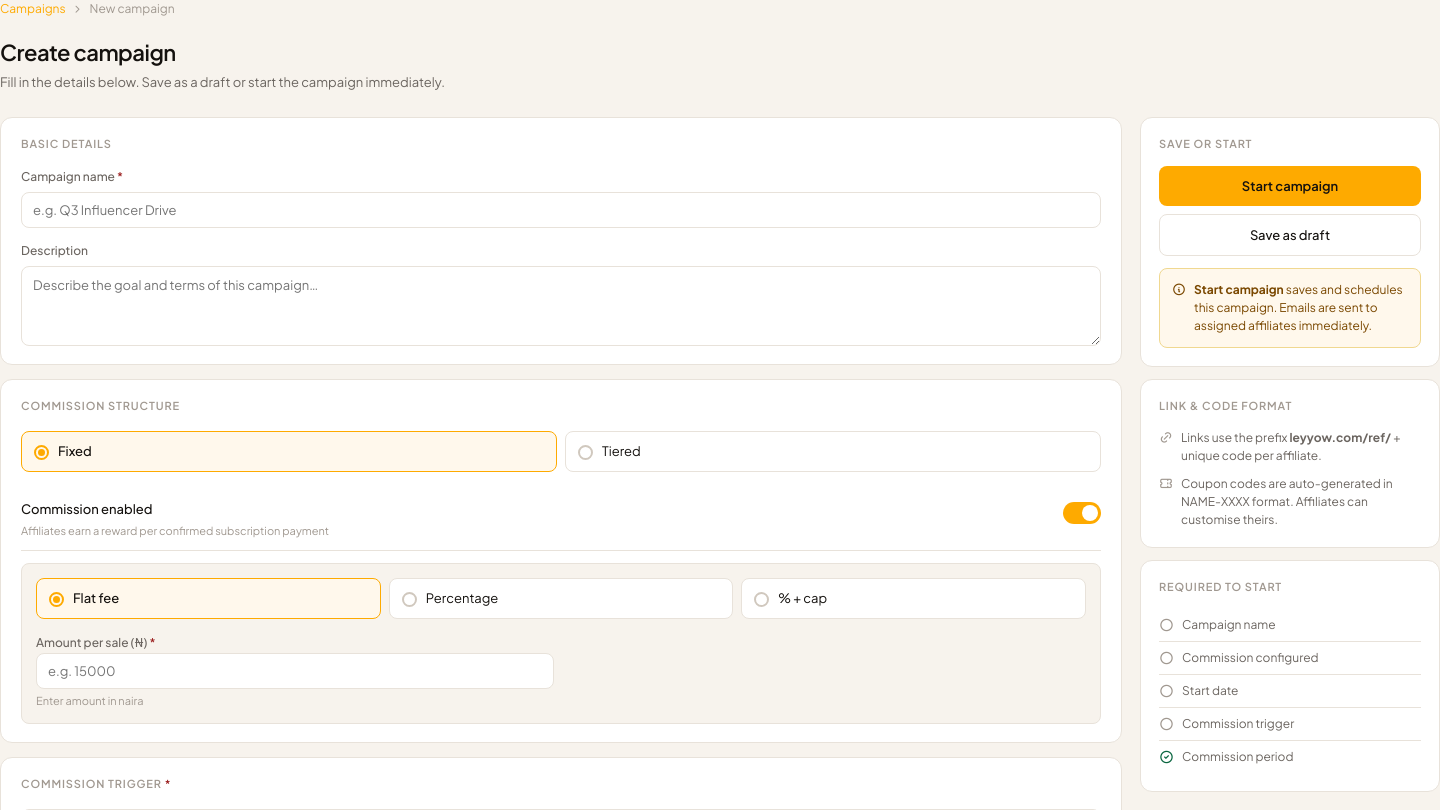
Scenario: initial render › shows the tier table when Tiered is selected
Click the element with class "radio-opt" showing "Tiered". click: click(833, 451)
box: x1=565 y1=430 x2=1101 y2=472
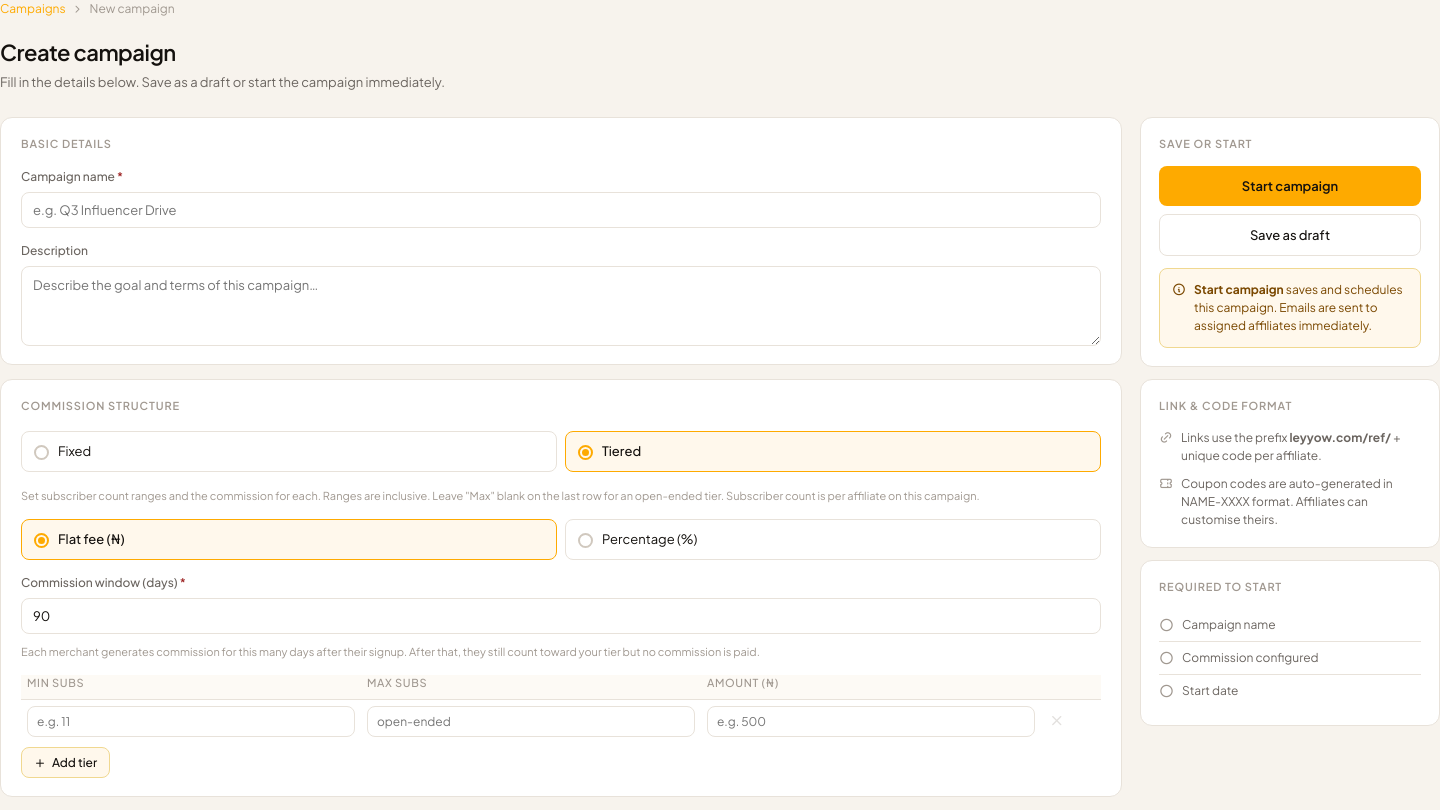
Expected: the table with class "tier-table" is shown, x1=21 y1=674 x2=1101 y2=737
